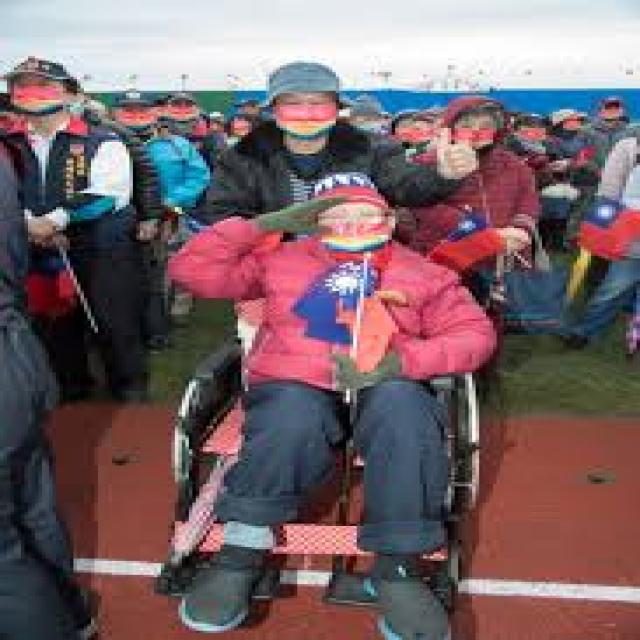wheelchairs: (144, 282, 538, 610)
